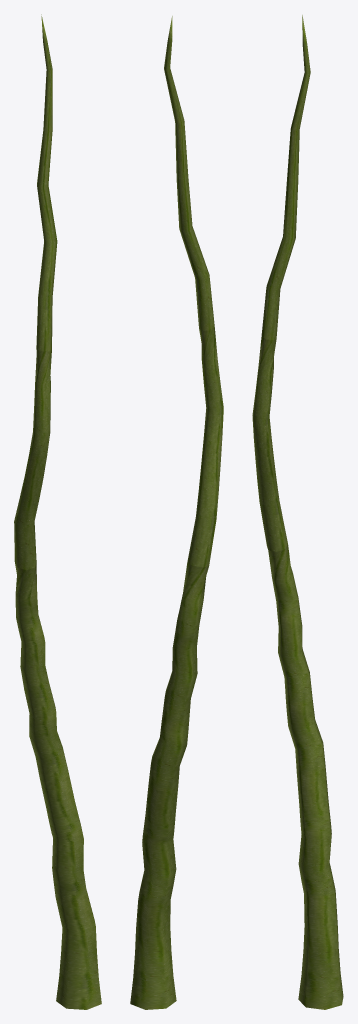
The model's file is VG07_2_stem.dae.
3 renders of one model, left to right at view 1: azimuth 30°, elevation 25°; view 2: azimuth 150°, elevation 25°; view 3: azimuth 330°, elevation 25°, orthographic. The views are drawn at different scales.
Visible parts, largest first — view 1: VG07_005; view 2: VG07_005; view 3: VG07_005.
Part boxes in pixels (box(x1,y1,x2,y2)): VG07_005: box(14, 14, 101, 1009); VG07_005: box(130, 16, 223, 1009); VG07_005: box(252, 15, 343, 1009).
Bounding box in the file's own units: 1.44 × 0.9499 × 16.19.
